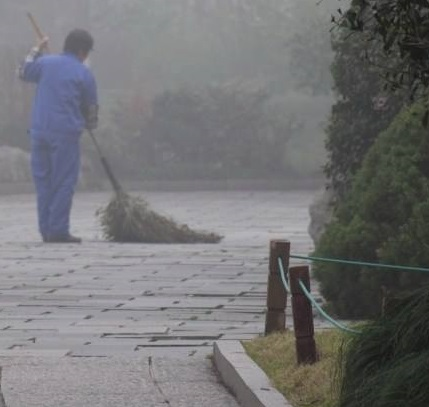person: (15, 28, 99, 246)
